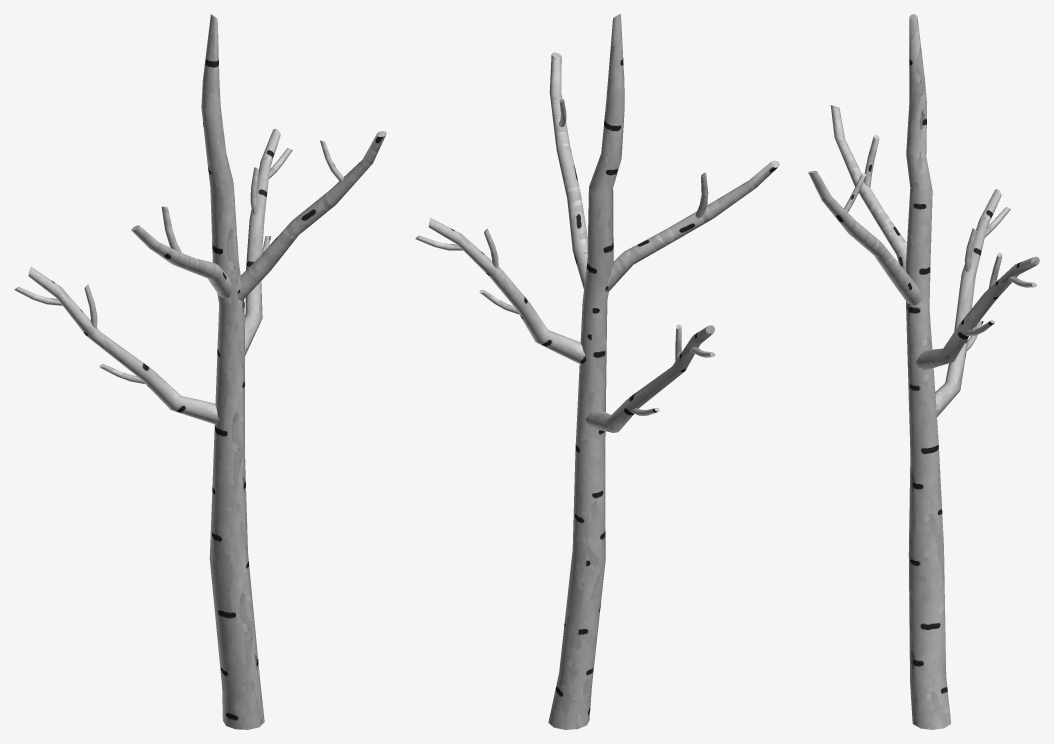
File: quaternius-textured-stylized-trees-deadbirch-10.glb
The picture shows the model from 3 angles, left to right: view 1: azimuth 30°, elevation 25°; view 2: azimuth 150°, elevation 25°; view 3: azimuth 270°, elevation 25°; orthographic projection. The views are drawn at different scales.
Parts seen in each view (by area): view 1: DeadBirch_10; view 2: DeadBirch_10; view 3: DeadBirch_10.
Boxes of the visible parts, x1=… form: DeadBirch_10: x1=14, y1=14, x2=386, y2=729; DeadBirch_10: x1=415, y1=14, x2=779, y2=729; DeadBirch_10: x1=808, y1=14, x2=1039, y2=729.
Bounding box in the file's own units: 4.24 × 10.08 × 3.08.
Materials: 1 (1 with a texture image).
